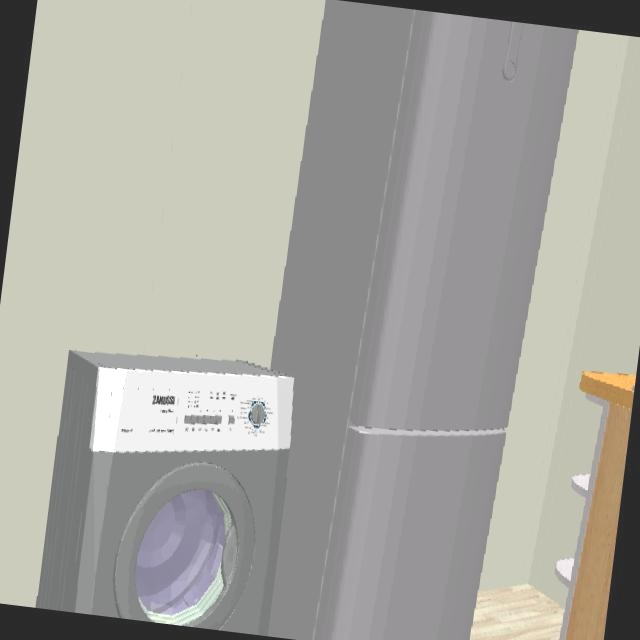cabinet: (556, 371, 635, 640)
fridge: (262, 0, 579, 640)
